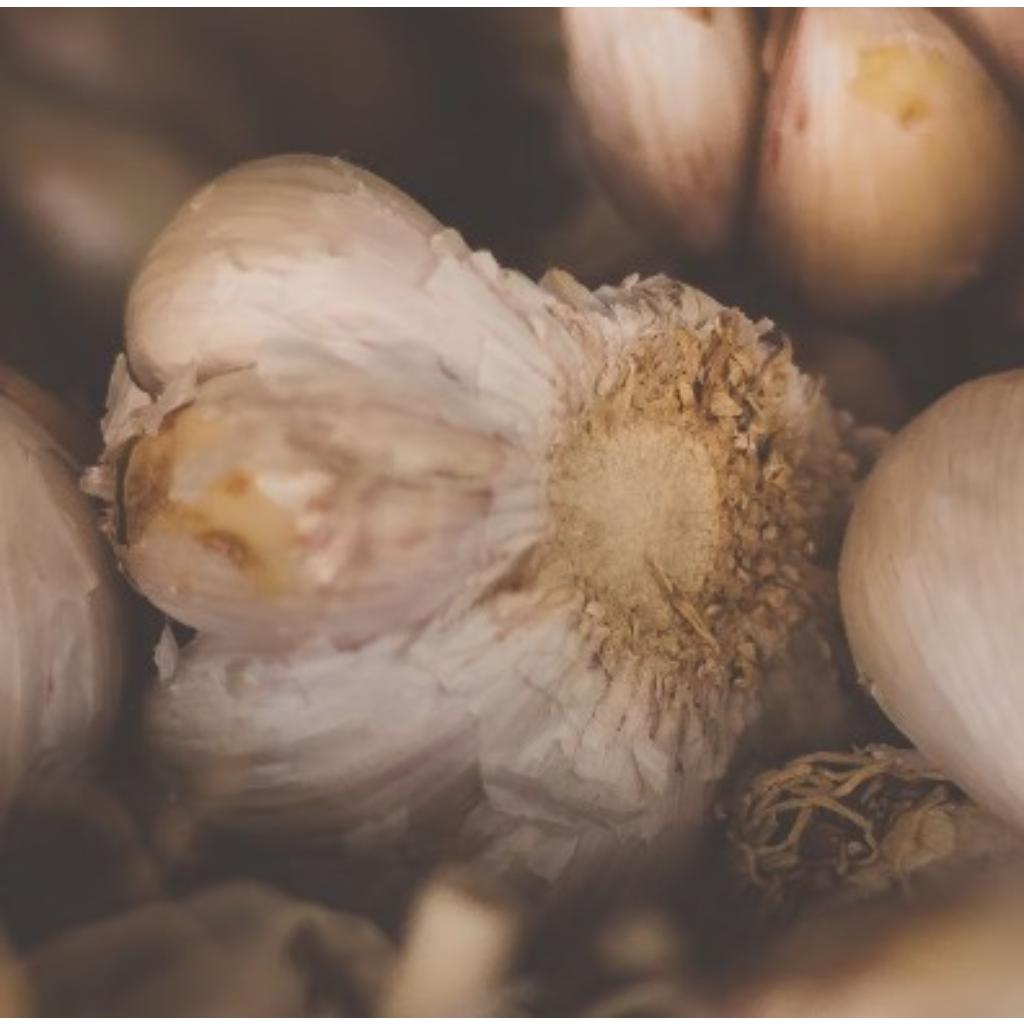garlic: (0, 7, 1024, 838)
